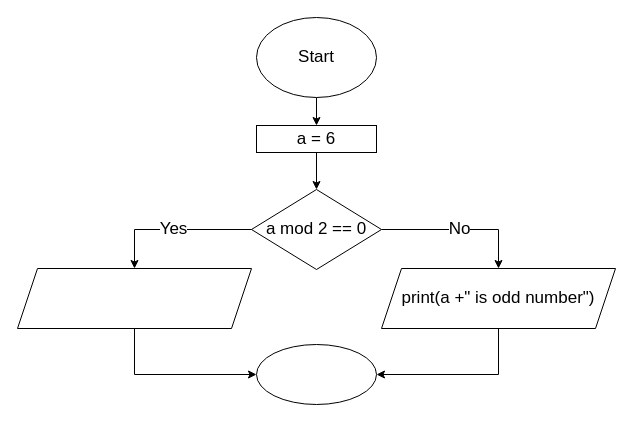
Image size: 633x422. Some labels were removed from this diagram. The shapes that lost their labels are listed below. From the top down, each one's centre as x and y in pixels, then its label:
[134,298]: print(a +" is even number")
[316,374]: End
